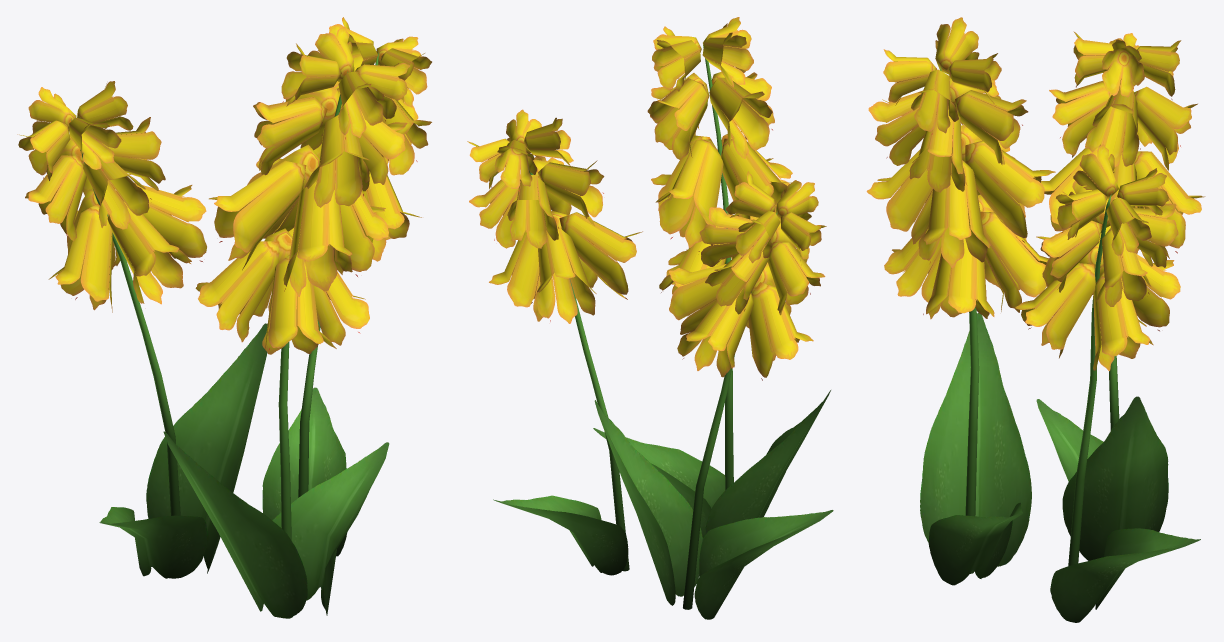
Rendered from Flower_4_Group.gltf.
The picture shows the model from 3 angles, left to right: view 1: azimuth 30°, elevation 25°; view 2: azimuth 150°, elevation 25°; view 3: azimuth 270°, elevation 25°; orthographic projection. The views are drawn at different scales.
Visible parts, largest first — view 1: Flower_4_Group; view 2: Flower_4_Group; view 3: Flower_4_Group.
Part boxes in pixels (x1,y1,x2,y2): Flower_4_Group: (17,17,431,618); Flower_4_Group: (467,17,833,619); Flower_4_Group: (866,17,1205,622).
Bounding box in the file's own units: 1.78 × 2.49 × 1.37.
2 materials, 2 textured.
